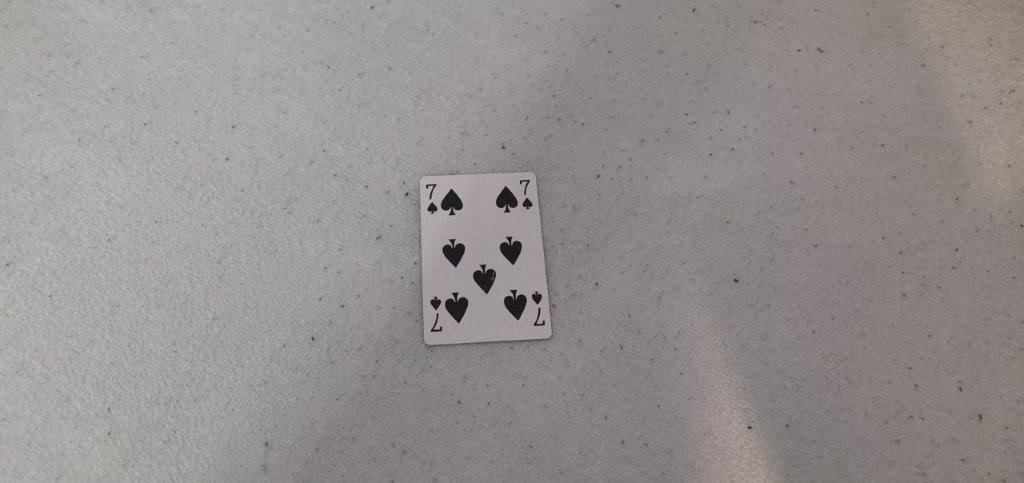7S: (515, 176, 536, 213), (422, 181, 443, 215)
